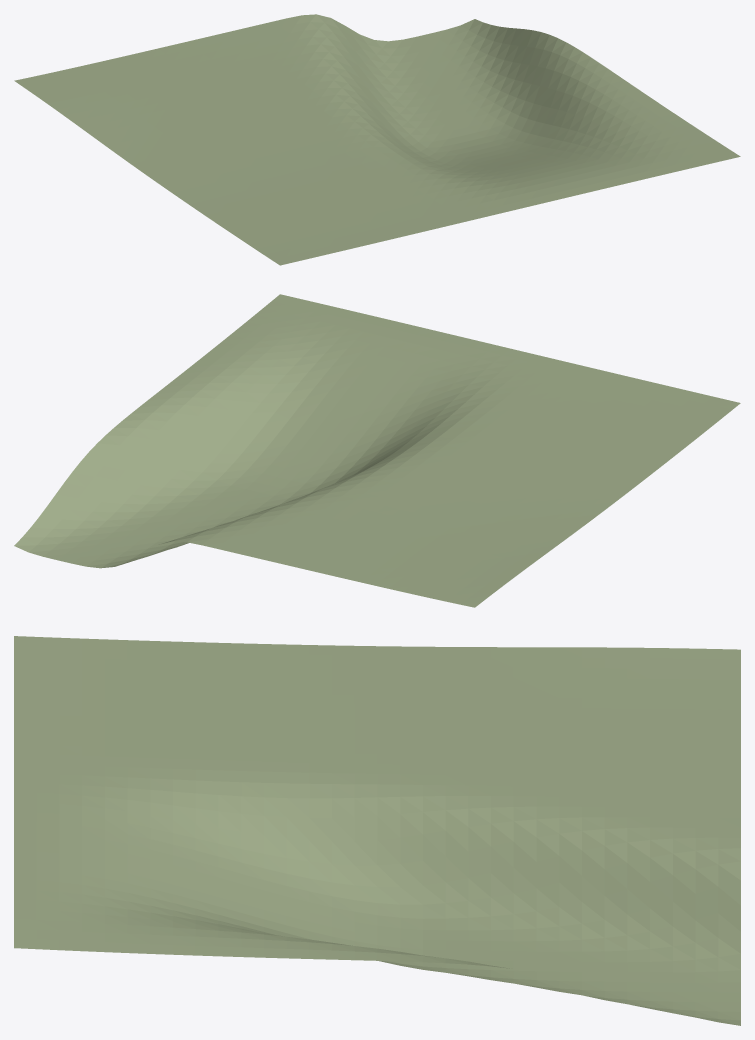
Rendered from lunar-4-2.glb.
The picture shows the model from 3 angles, top to bottom: view 1: azimuth 30°, elevation 25°; view 2: azimuth 150°, elevation 25°; view 3: azimuth 270°, elevation 25°; orthographic projection. The views are drawn at different scales.
Parts seen in each view (by area): view 1: lunar-4-2; view 2: lunar-4-2; view 3: lunar-4-2.
Boxes of the visible parts, left/top/right/bottom form: lunar-4-2: left=14, top=14, right=740, bottom=265; lunar-4-2: left=14, top=294, right=740, bottom=607; lunar-4-2: left=14, top=636, right=740, bottom=1025.
Bounding box in the file's own units: 128 × 17.07 × 128.
